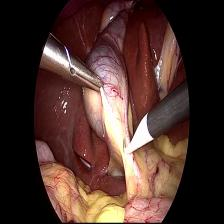Grasper: (61, 38, 106, 102)
Hook: (121, 112, 156, 166)
